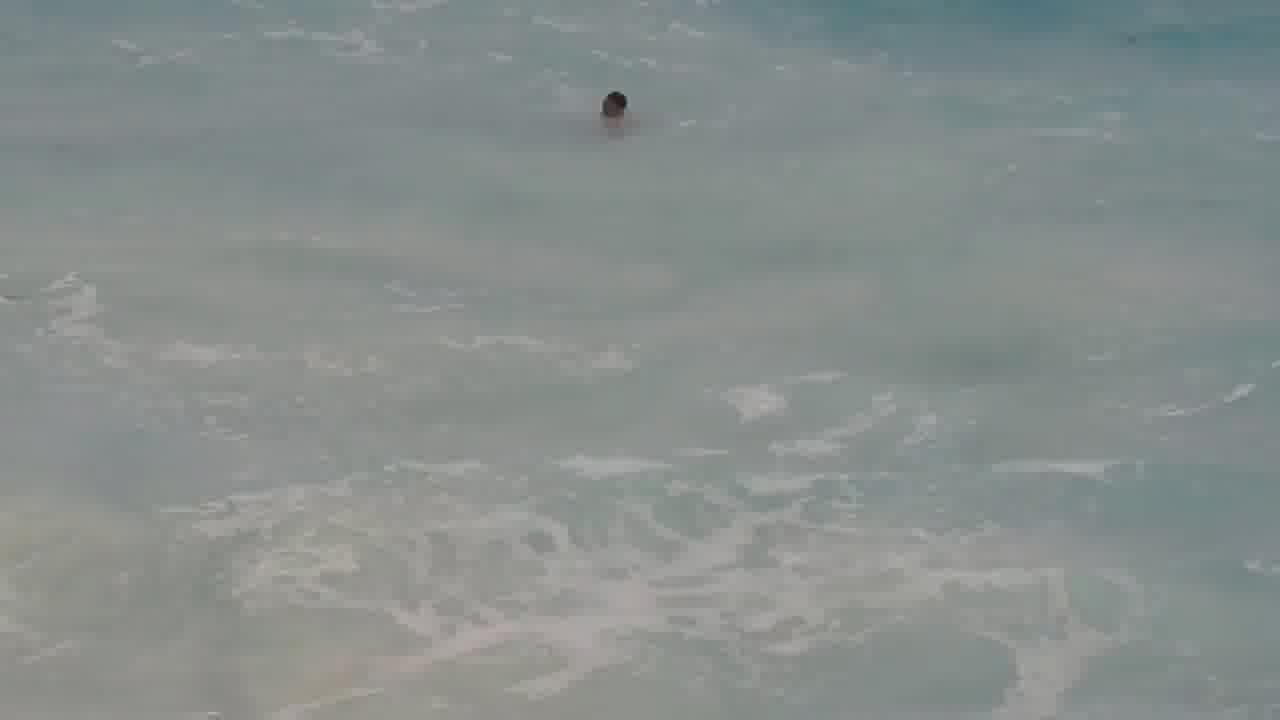swimmer: (590, 78, 645, 139)
